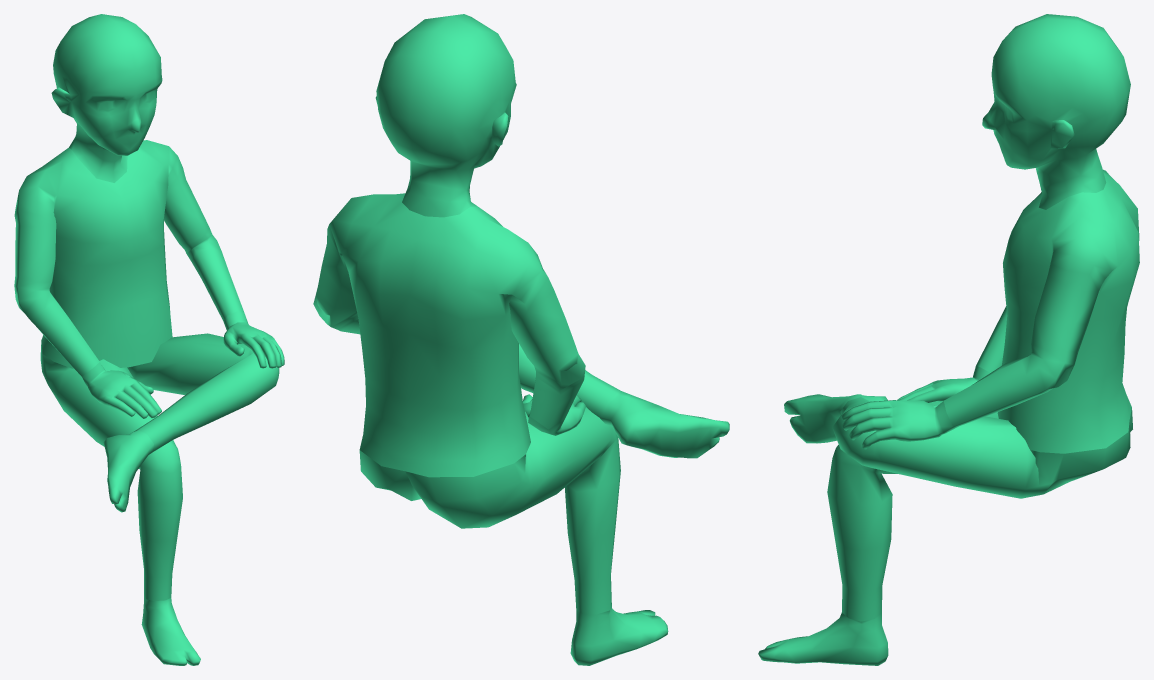
The model's file is sitting_pose_collider.glb.
The picture shows the model from 3 angles, left to right: view 1: azimuth 30°, elevation 25°; view 2: azimuth 150°, elevation 25°; view 3: azimuth 270°, elevation 25°; orthographic projection. The views are drawn at different scales.
Visible parts, largest first — view 1: Avatar; view 2: Avatar; view 3: Avatar.
Boxes of the visible parts, x1,y1,x2,y2 form: Avatar: (14,14,284,665); Avatar: (313,14,729,665); Avatar: (758,14,1139,665).
Size of what is drawn, in the model's own units: 0.6347 by 1.55 by 0.8092.
